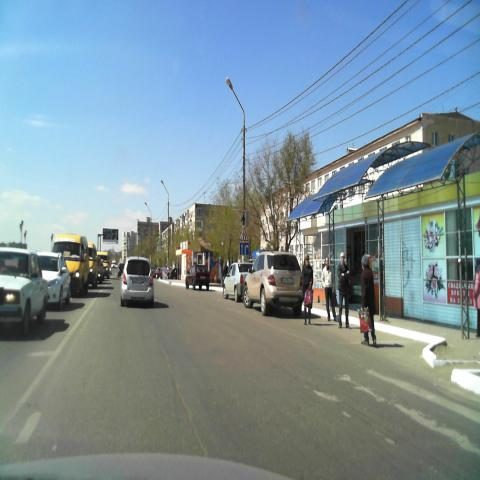1_20_2: (239, 228, 248, 241)
